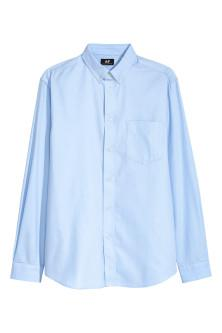teeshirt: (9, 42, 215, 294)
